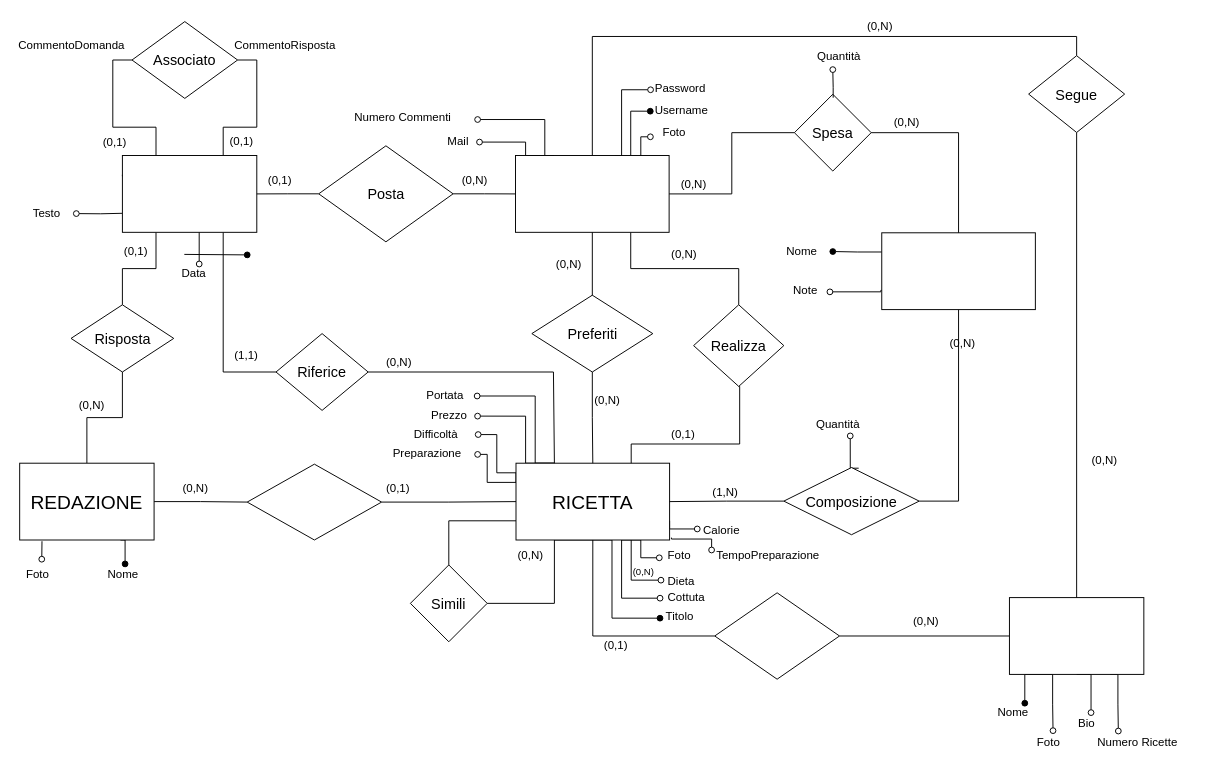
This 1217x768 diagram has some shape labels left out. Each missing label, with the centre of its shape:
"Autore" goes at pixel 777 635.
"COMMENTO" goes at pixel 189 193.
"CUOCO" goes at pixel 1076 635.
"INGREDIENTE" goes at pixel 958 271.
"Pubblicazione" goes at pixel 314 501.
"UTENTE" goes at pixel 592 193.
